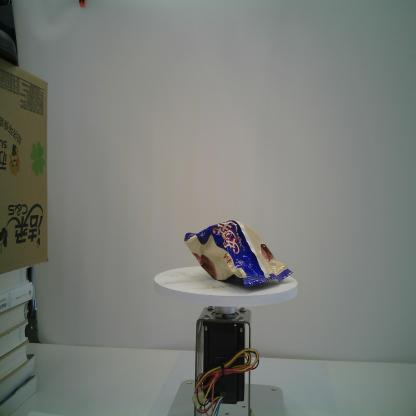Dessert: (180, 217, 294, 290)
